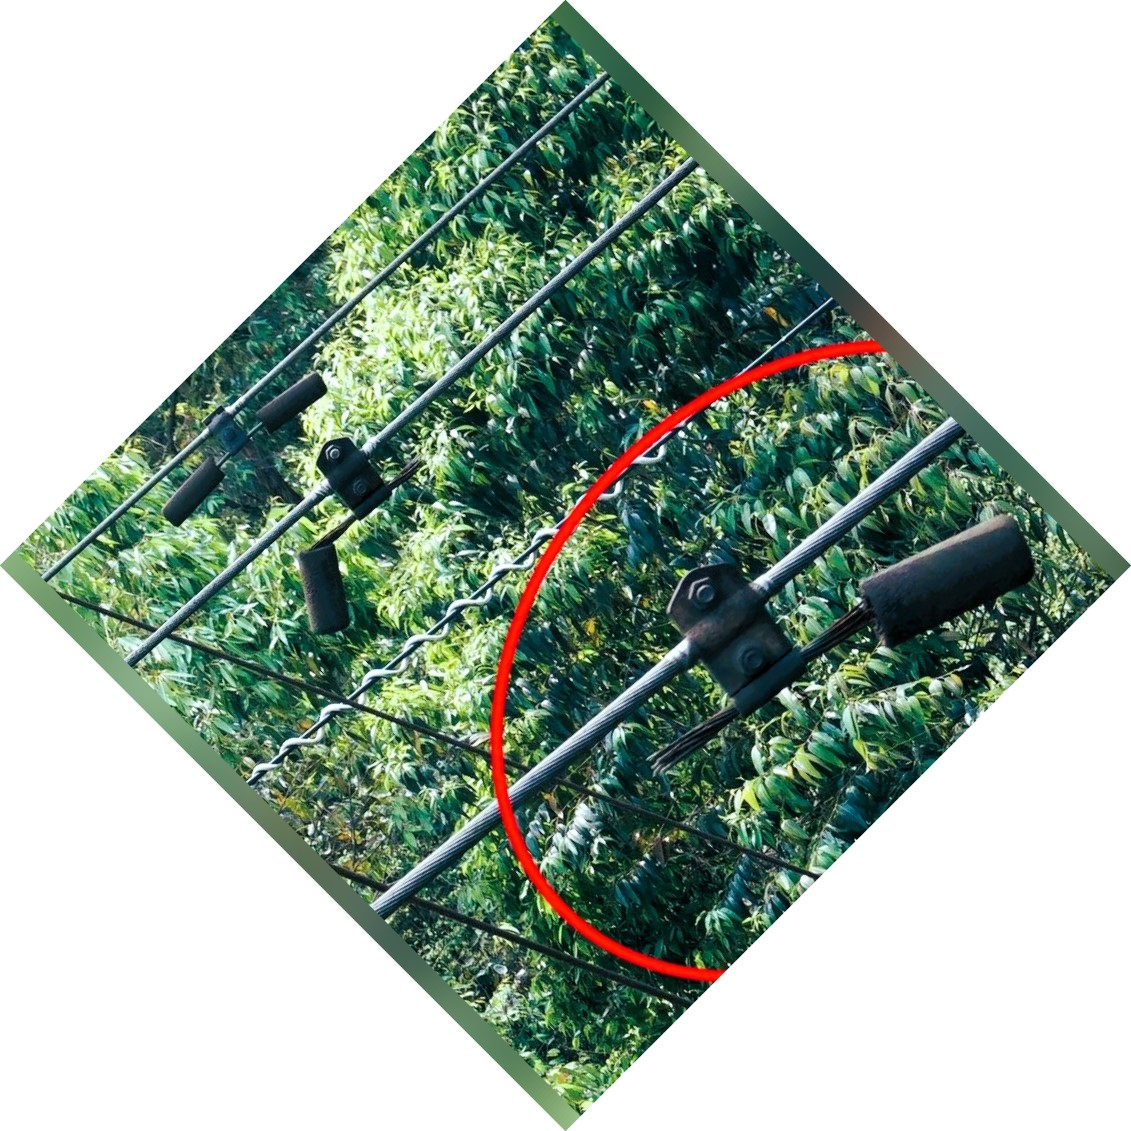Damage of shockproof hammer: (612, 500, 1042, 800), (262, 415, 450, 657)
